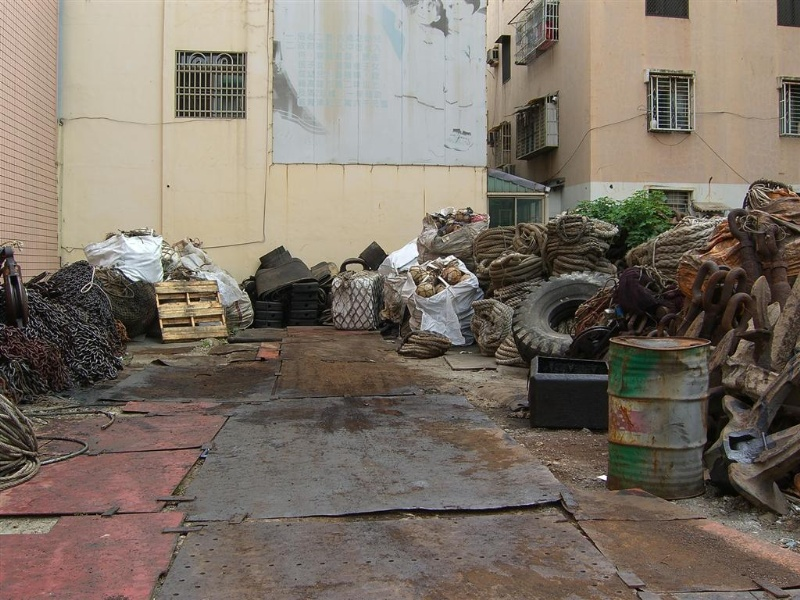box: (527, 356, 610, 430)
bucket: (606, 333, 711, 500)
plastic_bag: (410, 256, 482, 347), (89, 229, 164, 281), (376, 242, 418, 320), (421, 207, 486, 256), (164, 240, 226, 280)
tire: (511, 269, 620, 363)
